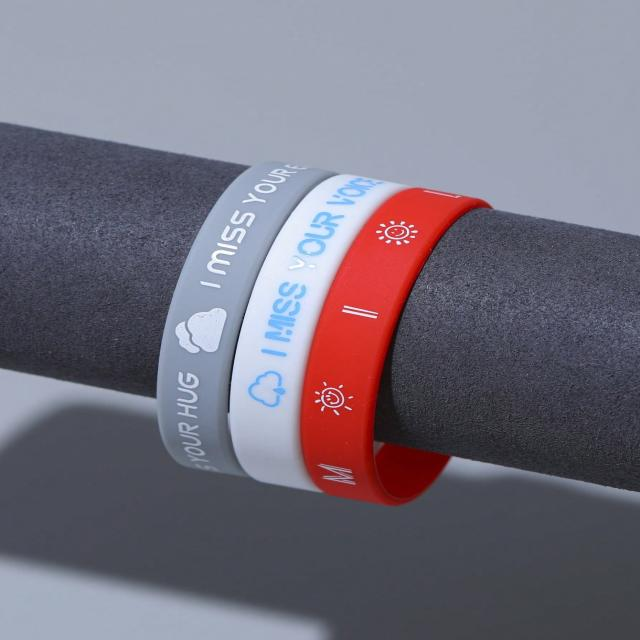bracelet: (45, 106, 526, 528)
